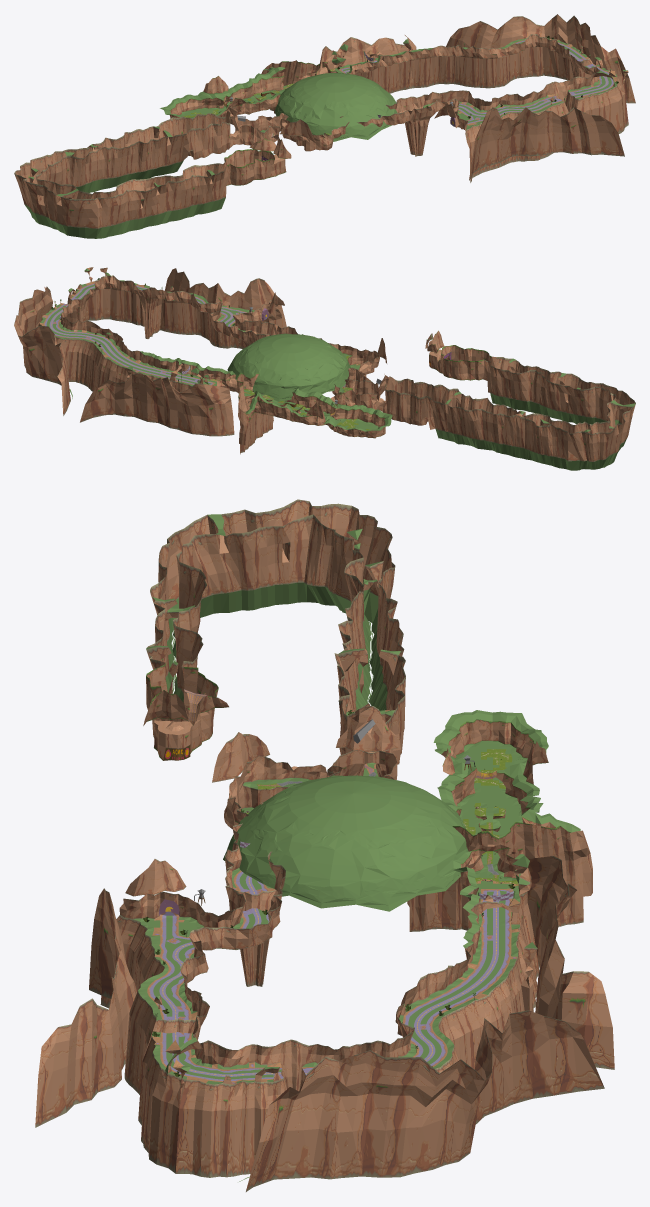
The model's file is scenery.obj.
3 views of the same model, one above another, from view 1: azimuth 30°, elevation 25°; view 2: azimuth 150°, elevation 25°; view 3: azimuth 270°, elevation 25° (orthographic). The views are drawn at different scales.
Parts seen in each view (by area): view 1: group_page_5, group_page_-1, group_page_6, group_page_3, group_page_8, group_page_4; view 2: group_page_5, group_page_-1, group_page_6, group_page_3, group_page_8, group_page_4; view 3: group_page_5, group_page_-1, group_page_6, group_page_3, group_page_4, group_page_8.
Part boxes in pixels (left/top/right/bottom): group_page_5: left=14, top=14, right=635, bottom=228; group_page_-1: left=25, top=37, right=627, bottom=238; group_page_6: left=22, top=21, right=628, bottom=218; group_page_3: left=29, top=39, right=624, bottom=228; group_page_8: left=27, top=36, right=626, bottom=216; group_page_4: left=184, top=39, right=628, bottom=135; group_page_5: left=14, top=267, right=635, bottom=461; group_page_-1: left=40, top=268, right=635, bottom=470; group_page_6: left=16, top=270, right=632, bottom=452; group_page_3: left=23, top=279, right=630, bottom=461; group_page_8: left=27, top=287, right=587, bottom=450; group_page_4: left=39, top=267, right=370, bottom=430; group_page_5: left=42, top=499, right=614, bottom=1191; group_page_-1: left=133, top=514, right=580, bottom=1181; group_page_6: left=38, top=534, right=612, bottom=1142; group_page_3: left=35, top=562, right=545, bottom=1179; group_page_4: left=147, top=710, right=520, bottom=1082; group_page_8: left=92, top=544, right=588, bottom=1138.
Bounding box in the file's own units: 448 × 54.57 × 190.
Materials: 12 (11 with a texture image).
